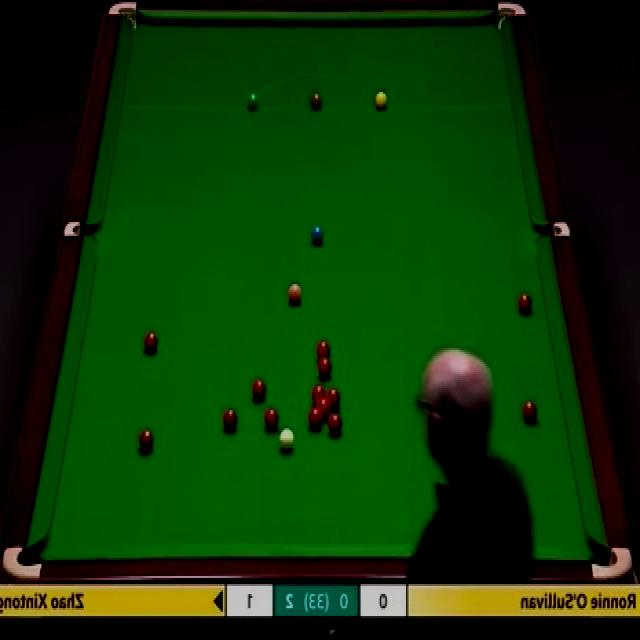blue-ball: (310, 222, 324, 247)
brown-ball: (310, 90, 323, 109)
green-ball: (246, 90, 259, 109)
pink-ball: (288, 281, 303, 305)
red-ball: (522, 398, 538, 425), (518, 291, 533, 317), (310, 383, 326, 406), (139, 426, 153, 452), (223, 407, 238, 431), (328, 412, 343, 436), (317, 356, 332, 379), (326, 386, 340, 410), (266, 407, 280, 430), (308, 406, 322, 429), (252, 378, 267, 398), (145, 330, 158, 352), (316, 398, 330, 418), (316, 341, 330, 358)
white-ball: (280, 428, 294, 452)
yellow-ball: (375, 90, 388, 109)
